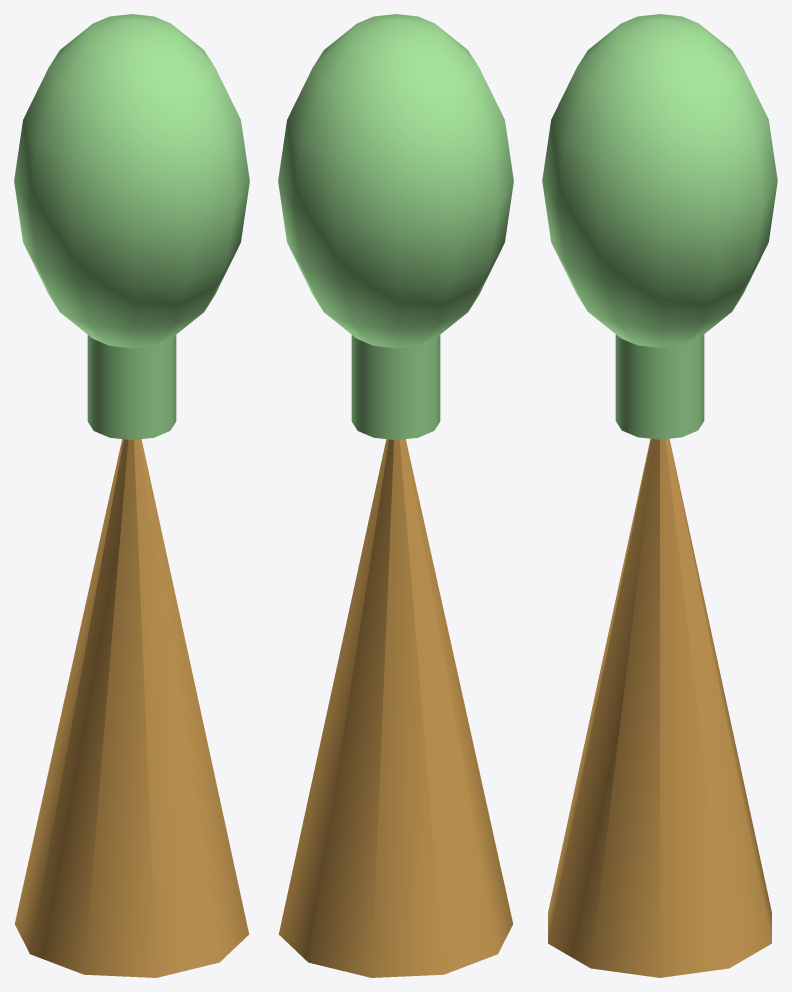
The model's file is collectible_carrot.glb.
3 renders of one model, left to right at view 1: azimuth 30°, elevation 25°; view 2: azimuth 150°, elevation 25°; view 3: azimuth 270°, elevation 25°, orthographic.
Visible parts, largest first — view 1: CollectibleCarrot; view 2: CollectibleCarrot; view 3: CollectibleCarrot.
Part boxes in pixels (<box>): CollectibleCarrot: <box>14,14,249,977</box>; CollectibleCarrot: <box>278,14,513,977</box>; CollectibleCarrot: <box>542,14,777,977</box>.
Size of the model in its own units: 0.08 by 0.34 by 0.08.
